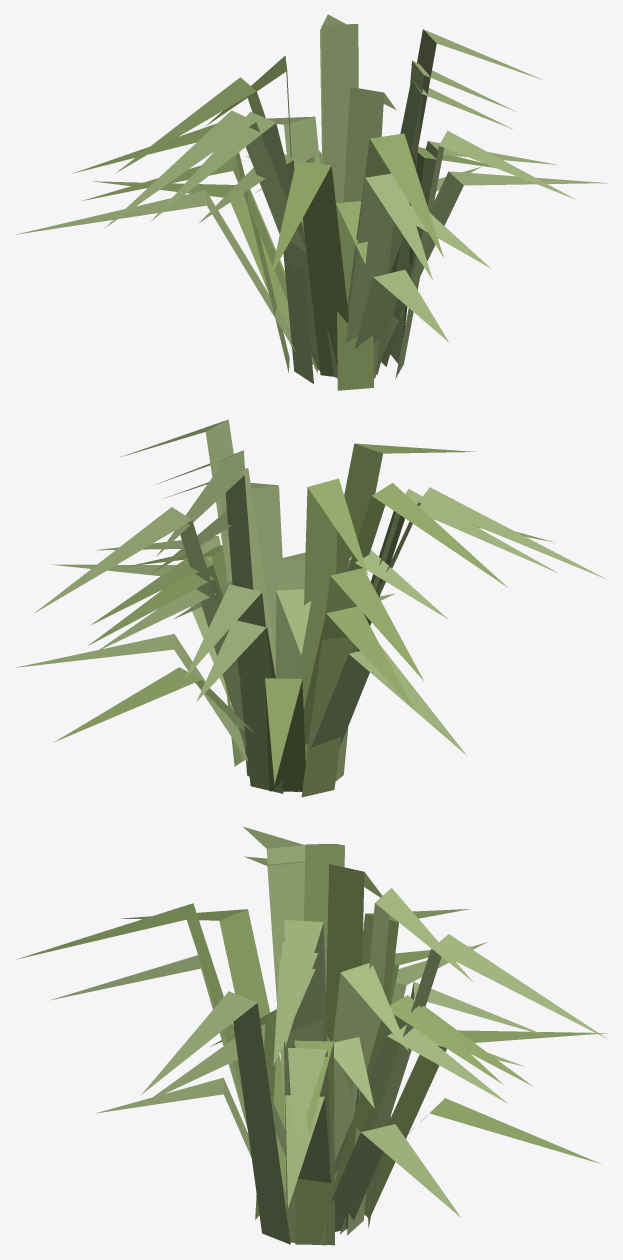
Rendered from sakura_grass.glb.
3 views of the same model, one above another, from view 1: azimuth 30°, elevation 25°; view 2: azimuth 150°, elevation 25°; view 3: azimuth 270°, elevation 25° (orthographic). The views are drawn at different scales.
Parts seen in each view (by area): view 1: sakura_grass_SakuraLeafSage, sakura_grass_SakuraLeafOlive; view 2: sakura_grass_SakuraLeafSage, sakura_grass_SakuraLeafOlive; view 3: sakura_grass_SakuraLeafSage, sakura_grass_SakuraLeafOlive.
Boxes of the visible parts, x1,y1,x2,y2 form: sakura_grass_SakuraLeafSage: (16, 14, 608, 383); sakura_grass_SakuraLeafOlive: (72, 55, 494, 390); sakura_grass_SakuraLeafSage: (16, 419, 607, 793); sakura_grass_SakuraLeafOlive: (54, 443, 553, 797); sakura_grass_SakuraLeafSage: (50, 826, 606, 1245); sakura_grass_SakuraLeafOlive: (16, 844, 607, 1245).
Size of the model in its own units: 0.8603 by 0.4929 by 0.7799.
